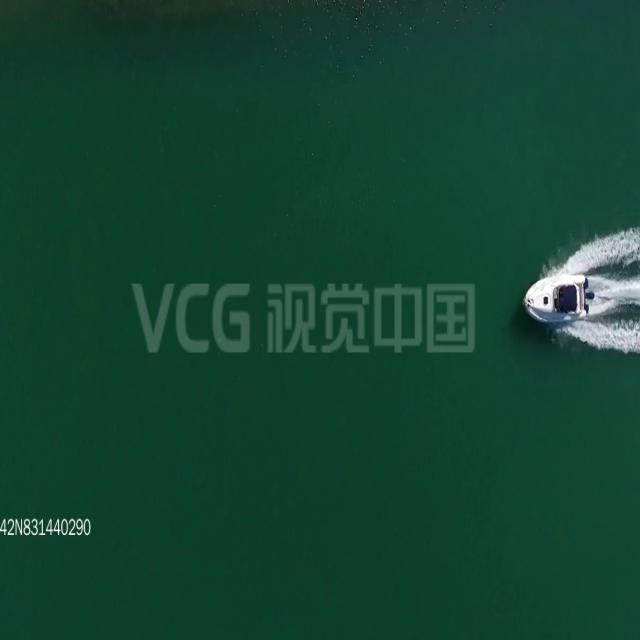houseboat: (523, 270, 589, 324)
